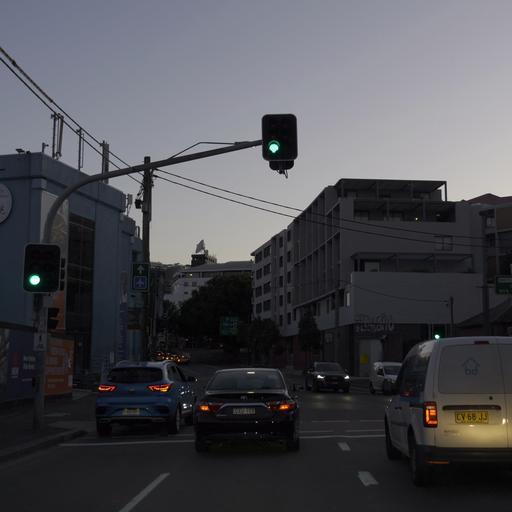Street light: (22, 112, 298, 431), (260, 112, 298, 172), (21, 242, 61, 294)
